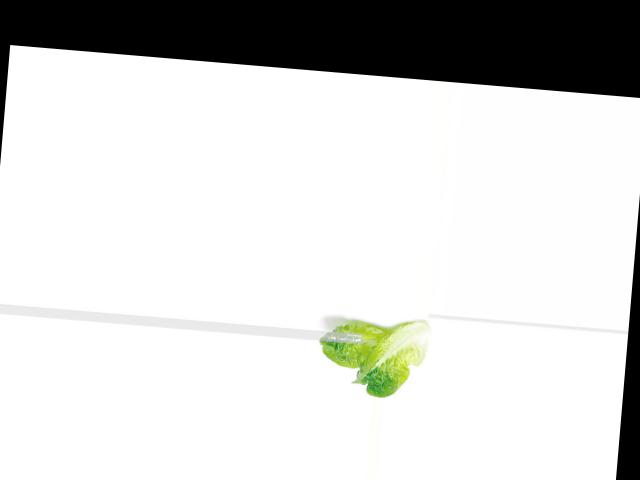lettuce: (312, 316, 434, 402)
